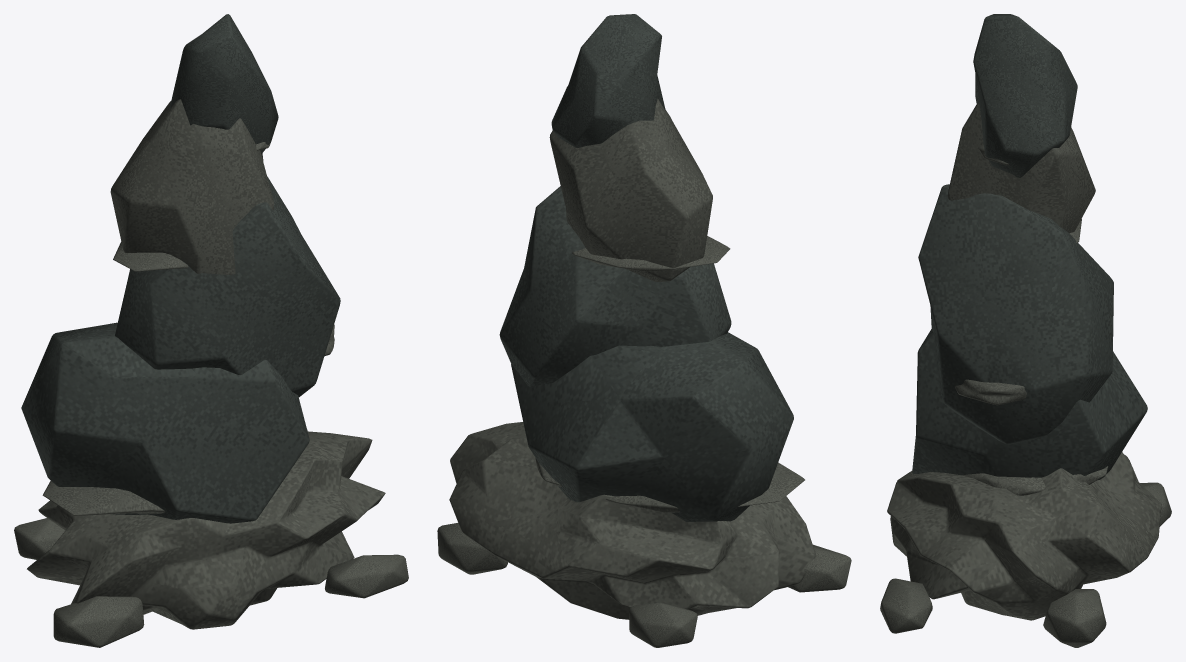
Rendered from prop_rock_02.glb.
The picture shows the model from 3 angles, left to right: view 1: azimuth 30°, elevation 25°; view 2: azimuth 150°, elevation 25°; view 3: azimuth 270°, elevation 25°; orthographic projection. The views are drawn at different scales.
Parts seen in each view (by area): view 1: StandingStratum_01, StandingStratum_00, StandingStratum_02, StandingStratum_03, StandingStratum_04, StrataScree_00, StrataScree_03, RockLedge_00, StrataScree_02, RockLedge_02; view 2: StandingStratum_01, StandingStratum_00, StandingStratum_02, StandingStratum_03, StandingStratum_04, StrataScree_02, StrataScree_01, RockLedge_00, StrataScree_00, RockLedge_02; view 3: StandingStratum_02, StandingStratum_00, StandingStratum_01, StandingStratum_04, StandingStratum_03, StrataScree_01, StrataScree_03, RockLedge_00, RockLedge_01, StrataScree_02.
Boxes of the visible parts, <box> form: StandingStratum_01: <box>21,322,309,523</box>; StandingStratum_00: <box>27,430,385,629</box>; StandingStratum_02: <box>115,176,340,397</box>; StandingStratum_03: <box>110,99,274,275</box>; StandingStratum_04: <box>169,14,278,154</box>; StrataScree_00: <box>53,596,144,647</box>; StrataScree_03: <box>325,554,408,598</box>; RockLedge_00: <box>42,481,165,515</box>; StrataScree_02: <box>14,518,65,559</box>; RockLedge_02: <box>113,242,188,271</box>; StandingStratum_01: <box>511,332,793,521</box>; StandingStratum_00: <box>449,422,815,619</box>; StandingStratum_02: <box>499,186,731,386</box>; StandingStratum_03: <box>549,98,712,281</box>; StandingStratum_04: <box>551,14,665,147</box>; StrataScree_02: <box>629,602,697,647</box>; StrataScree_01: <box>437,523,507,574</box>; RockLedge_00: <box>535,458,804,512</box>; StrataScree_00: <box>788,544,851,592</box>; RockLedge_02: <box>572,236,730,272</box>; StandingStratum_02: <box>918,184,1113,444</box>; StandingStratum_00: <box>887,452,1161,620</box>; StandingStratum_01: <box>912,329,1147,480</box>; StandingStratum_04: <box>973,14,1077,177</box>; StandingStratum_03: <box>947,103,1095,233</box>; StrataScree_01: <box>1043,589,1106,647</box>; StrataScree_03: <box>880,578,932,633</box>; RockLedge_00: <box>963,466,1108,495</box>; RockLedge_01: <box>955,379,1026,405</box>; StrataScree_02: <box>1140,482,1171,526</box>.
Bounding box in the file's own units: 1.6 × 2.49 × 1.12.
Materials: 2 (2 with a texture image).
